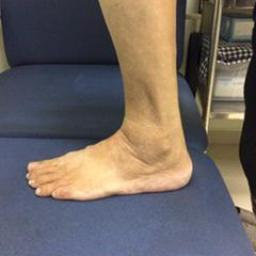Lateral View -Left Foot-: (22, 99, 198, 209)
